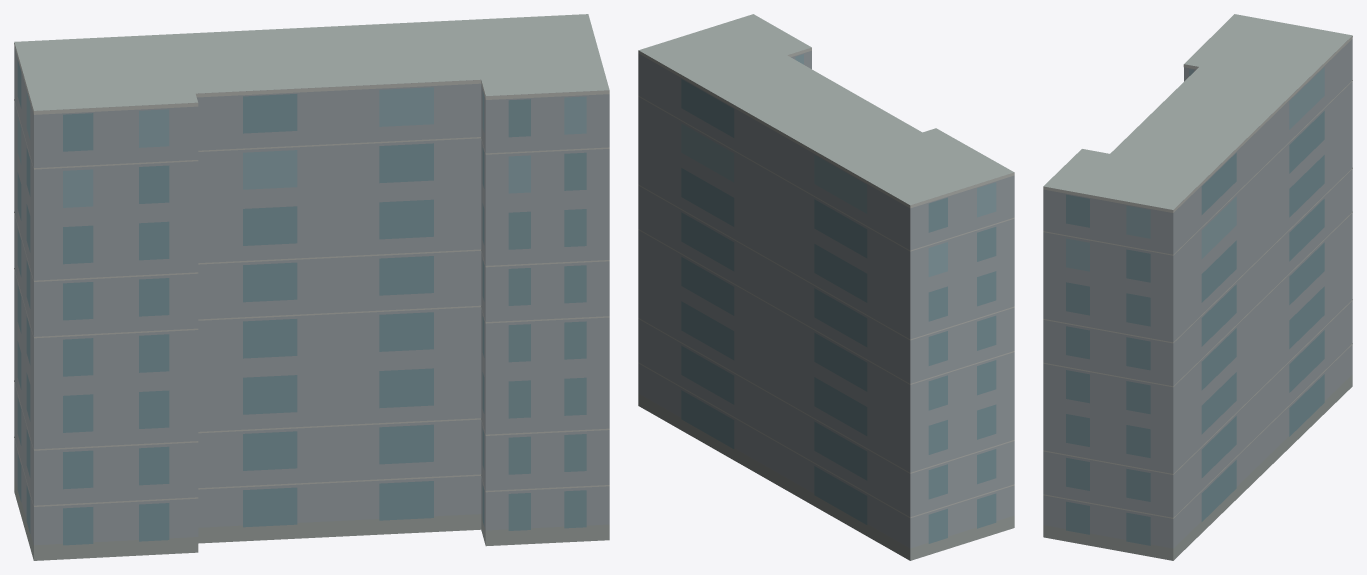
The model's file is survey-upis-32994335.glb.
3 views of the same model, side by side, from view 1: azimuth 30°, elevation 25°; view 2: azimuth 150°, elevation 25°; view 3: azimuth 270°, elevation 25° (orthographic). The views are drawn at different scales.
Visible parts, largest first — view 1: survey-upis-32994335.tmp; view 2: survey-upis-32994335.tmp; view 3: survey-upis-32994335.tmp.
Boxes of the visible parts, x1,y1,x2,y2 form: survey-upis-32994335.tmp: (14,14,609,560); survey-upis-32994335.tmp: (638,14,1014,560); survey-upis-32994335.tmp: (1043,14,1352,560).
Bounding box in the file's own units: 33.21 × 27.7 × 22.17.
